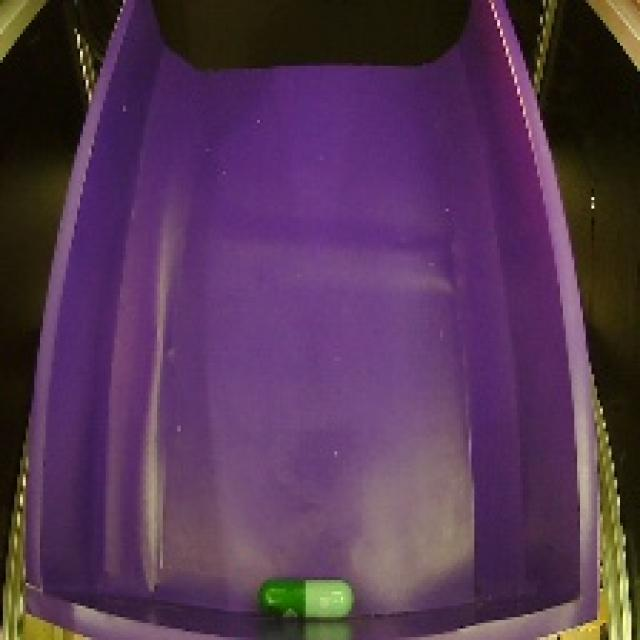small: (251, 569, 360, 630)
